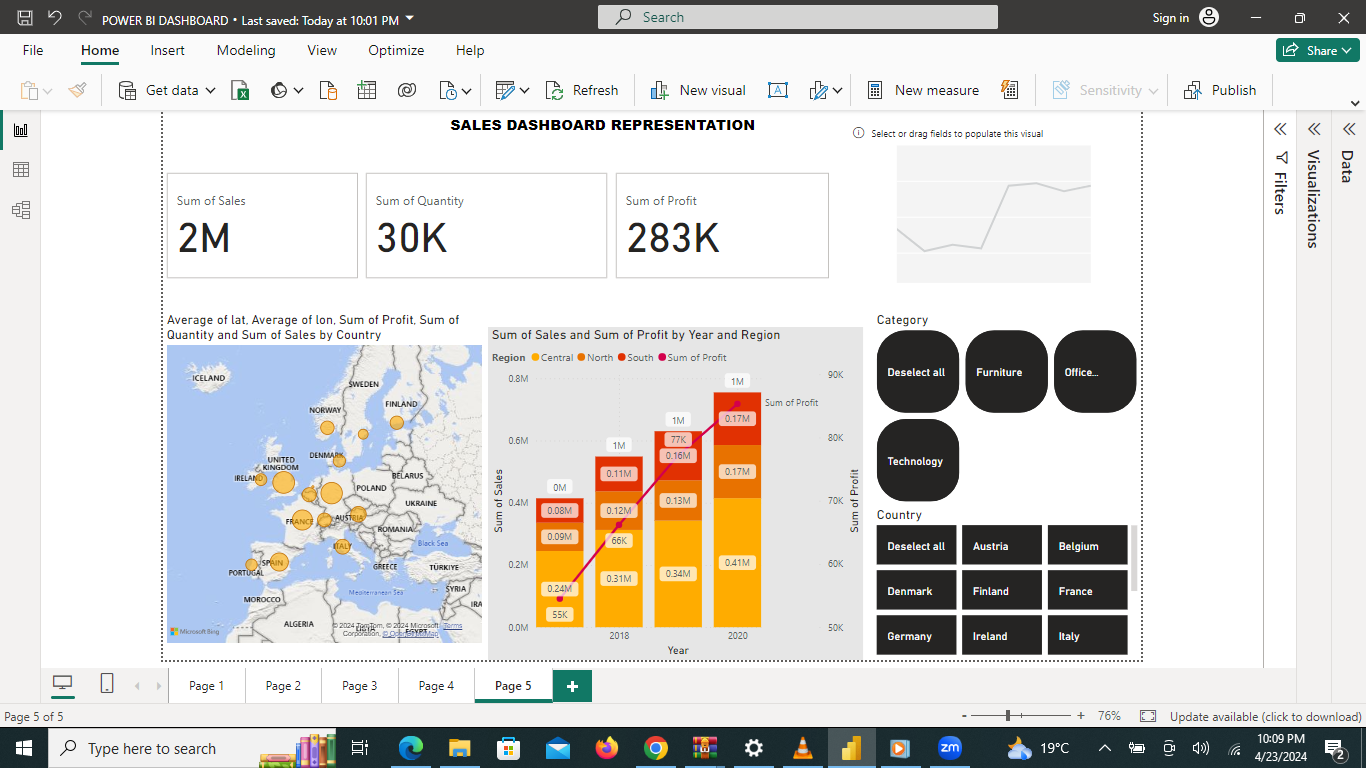

The page's visual inventory and layout, read from the dashboard file:
{"tool":"powerbi","page":{"name":"Page 5","canvas":[1280,720],"ordinal":4},"visuals":[{"type":"lineStackedColumnComboChart","fields":{"Y":["Sum(Order Breakdown.Sales)"],"Y2":["Sum(Order Breakdown.Profit)"],"Category":["List of Orders.Order Date.Variation.Date Hierarchy.Year","List of Orders.Order Date.Variation.Date Hierarchy.Month"],"Series":["List of Orders.Region"]},"box":[424.8,283.7,491,436.3],"z":0},{"type":"map","fields":{"Category":["List of Orders.Country"],"Y":["Avg(List of Orders.lat)"],"X":["Avg(List of Orders.lon)"],"Size":["Sum(Order Breakdown.Profit)"]},"box":[0,265,421.9,437.8],"z":1000},{"type":"cardVisual","fields":{"Data":["Sum(Order Breakdown.Sales)"]},"box":[0,77.8,260.6,148.3],"z":2000},{"type":"cardVisual","fields":{"Data":["Sum(Order Breakdown.Quantity)"]},"box":[260.6,77.8,326.9,148.3],"z":3000},{"type":"cardVisual","fields":{"Data":["Sum(Order Breakdown.Profit)"]},"box":[587.5,77.8,289.4,148.3],"z":4000},{"type":"textbox","box":[366.2,0,418.3,52.1],"z":5000},{"type":"advancedSlicerVisual","fields":{"Values":["Order Breakdown.Category"]},"box":[928.8,265,351.4,254.9],"z":6000},{"type":"advancedSlicerVisual","fields":{"Values":["List of Orders.Country"]},"box":[929,520,351,200],"z":7000}]}

Visuals, with their boxes on the page's 1280x720 design canvas (x1, y1, x2, y2). These are canvas units, not pixel positions in the 1366x768 screenshot, which may show the page scaled, cropped or inside an application window:
lineStackedColumnComboChart - Sum(Order Breakdown.Sales) x Sum(Order Breakdown.Profit): [x1=425, y1=284, x2=916, y2=720]
map - List of Orders.Country x Avg(List of Orders.lat): [x1=0, y1=265, x2=422, y2=703]
cardVisual - Sum(Order Breakdown.Sales): [x1=0, y1=78, x2=261, y2=226]
cardVisual - Sum(Order Breakdown.Quantity): [x1=261, y1=78, x2=588, y2=226]
cardVisual - Sum(Order Breakdown.Profit): [x1=588, y1=78, x2=877, y2=226]
textbox: [x1=366, y1=0, x2=784, y2=52]
advancedSlicerVisual - Order Breakdown.Category: [x1=929, y1=265, x2=1280, y2=520]
advancedSlicerVisual - List of Orders.Country: [x1=929, y1=520, x2=1280, y2=720]
